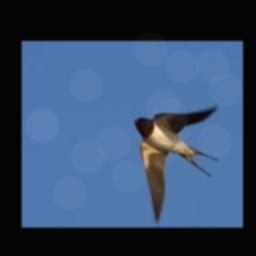Swallow: (134, 106, 220, 224)
